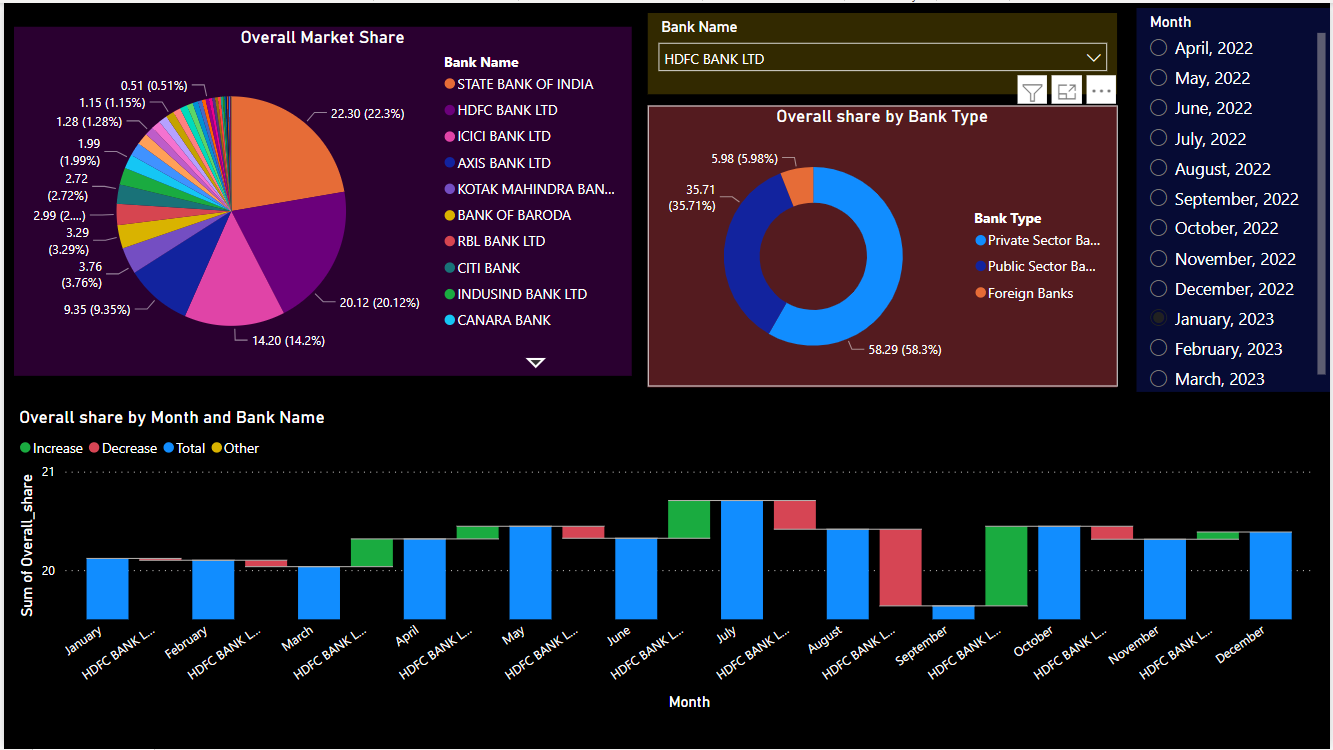

This screenshot's page, from the dashboard's own definition file:
{"tool":"powerbi","page":{"name":"High Level","canvas":[1280,720],"ordinal":2},"visuals":[{"type":"pieChart","title":"Overall Market Share","fields":{"Category":["Sheet1.Bank Name"],"Y":["Sum(Sheet1.Overall_share)"]},"box":[9.4,22.9,595.7,336.9],"z":0},{"type":"slicer","fields":{"Values":["Sheet1.Month"]},"box":[1092.9,5.4,187.3,370.6],"z":1000},{"type":"waterfallChart","title":" Overall share by Month and Bank Name","fields":{"Category":["Sheet1.Month.Variation.Date Hierarchy.Month"],"Y":["Sum(Sheet1.Overall_share)"],"Breakdown":["Sheet1.Bank Name"]},"box":[9.4,389.5,1258.7,297.8],"z":2000},{"type":"slicer","fields":{"Values":["Sheet1.Bank Name"]},"box":[621.3,9.4,452.8,78.2],"z":3000},{"type":"donutChart","title":"Overall share by Bank Type","fields":{"Category":["Sheet1.Bank Type"],"Y":["Sum(Sheet1.Overall_share)"]},"box":[621.3,98.4,452.8,272.2],"z":4000}]}

Visuals, with their boxes in screenshot pixels (x1, y1, x2, y2), scaled from the page's 1280x720 canvas onto the 1333x750 screenshot:
"Overall Market Share" pieChart: bbox=[10, 24, 630, 375]
slicer - Sheet1.Month: bbox=[1138, 6, 1332, 392]
" Overall share by Month and Bank Name" waterfallChart: bbox=[10, 406, 1321, 716]
slicer - Sheet1.Bank Name: bbox=[647, 10, 1119, 91]
"Overall share by Bank Type" donutChart: bbox=[647, 103, 1119, 386]
